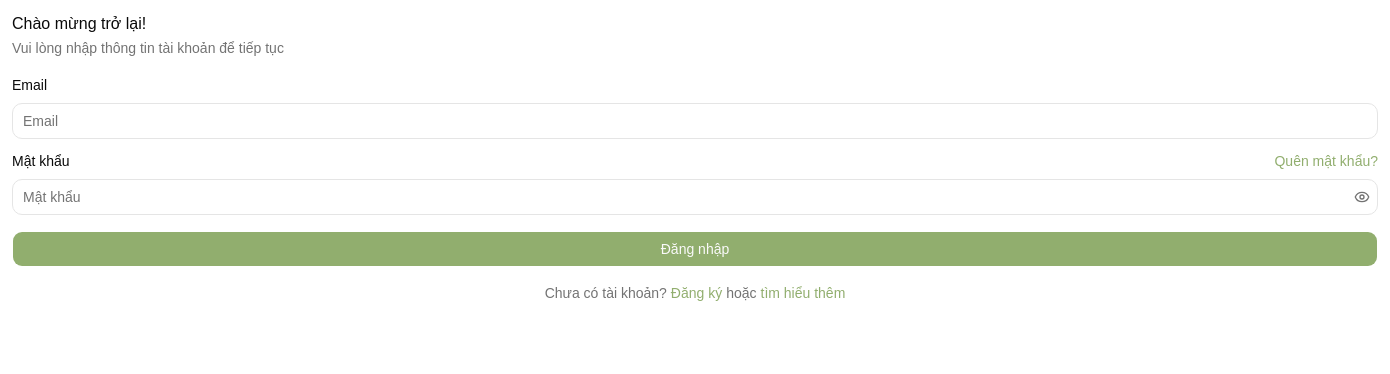
LoginPage › hiển thị lỗi khi email và mật khẩu không hợp lệ
Type "not-an-email" into the field labelled "Email".
click(695, 121); type("not-an-email")  # box [13,105,1377,137]
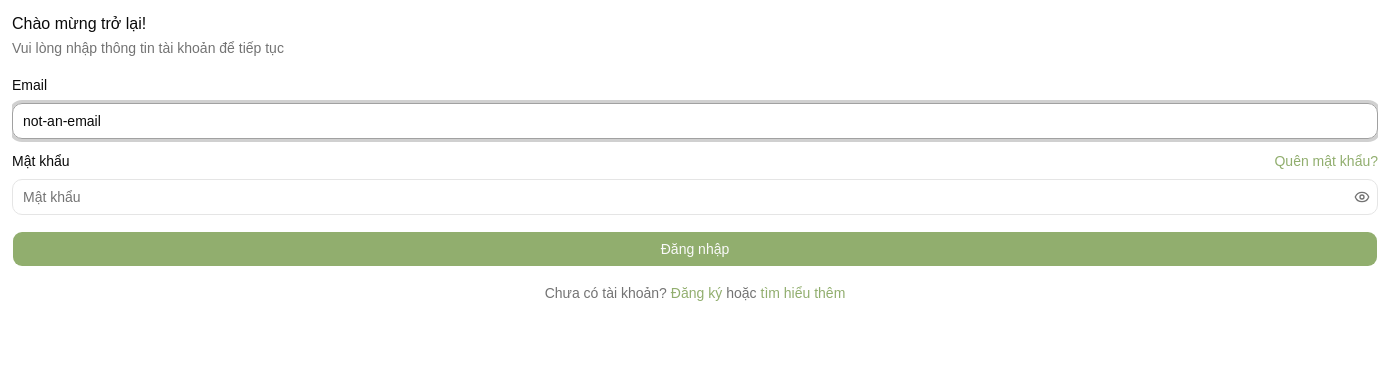
Type "123" into the password field labelled "Mật khẩu".
click(681, 197); type("123")  # box [13,181,1350,213]
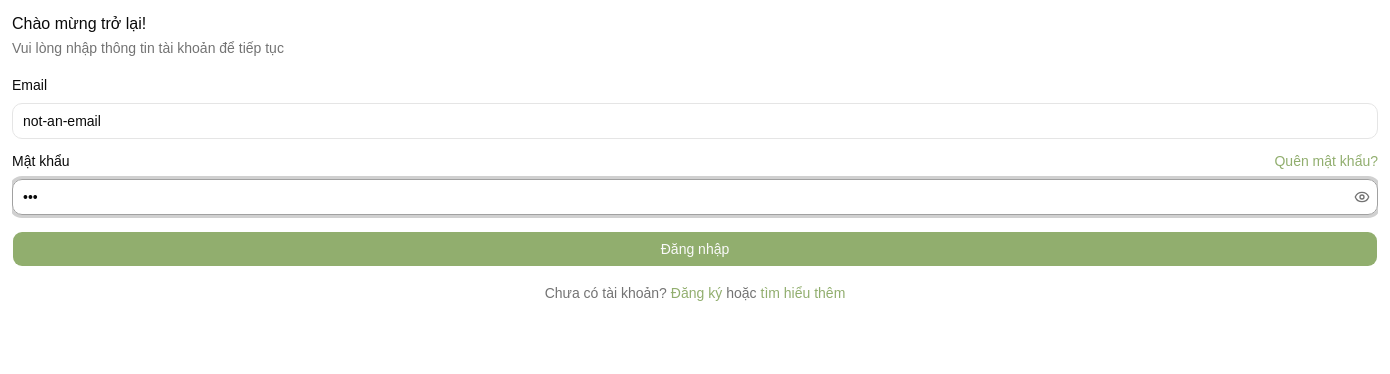
Click the button "Đăng nhập".
click(695, 249)  # box [12,231,1378,267]
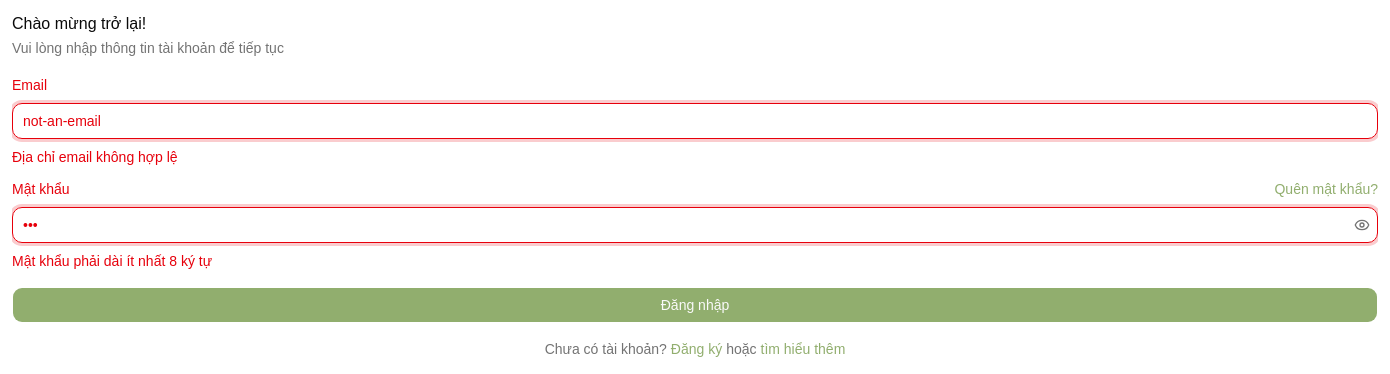
expect the text "Địa chỉ email không hợp lệ" is shown: met, box [12,149,178,165]
expect the text "Mật khẩu phải dài ít nhất 8 ký tự" is shown: met, box [12,253,212,269]
